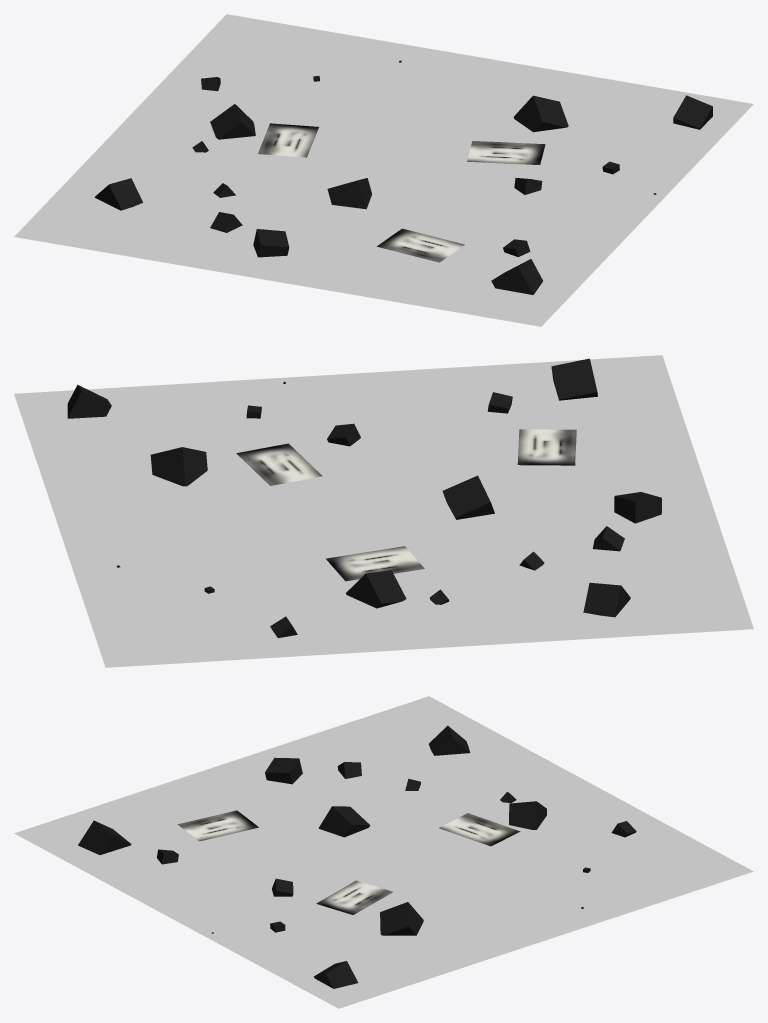
File: Trash3.fbx
3 renders of one model, top to bottom at view 1: azimuth 30°, elevation 25°; view 2: azimuth 150°, elevation 25°; view 3: azimuth 270°, elevation 25°, orthographic. The views are drawn at different scales.
Visible parts, largest first — view 1: Trash3, Trash3.1, Trash3|TrashP|Dupli|7, Trash3|TrashP|Dupli|10, Trash3|TrashP|Dupli|8, Trash3|TrashP|Dupli|4, Trash3|TrashP|Dupli|17, Trash3|TrashP|Dupli|3, Trash3|TrashP|Dupli|6; view 2: Trash3, Trash3.1, Trash3|TrashP|Dupli|7, Trash3|TrashP|Dupli|10, Trash3|TrashP|Dupli|8, Trash3|TrashP|Dupli|4, Trash3|TrashP|Dupli|17, Trash3|TrashP|Dupli|6, Trash3|TrashP|Dupli|3, Trash3|TrashP|Dupli|16, Trash3|TrashP|Dupli|1; view 3: Trash3, Trash3.1, Trash3|TrashP|Dupli|7, Trash3|TrashP|Dupli|4, Trash3|TrashP|Dupli|10, Trash3|TrashP|Dupli|8, Trash3|TrashP|Dupli|17, Trash3|TrashP|Dupli|6, Trash3|TrashP|Dupli|3.
Boxes of the visible parts, x1,y1,x2,y2 form: Trash3: [14, 14, 753, 326]; Trash3.1: [258, 123, 545, 262]; Trash3|TrashP|Dupli|7: [513, 95, 568, 132]; Trash3|TrashP|Dupli|10: [491, 259, 542, 294]; Trash3|TrashP|Dupli|8: [210, 104, 255, 139]; Trash3|TrashP|Dupli|4: [327, 178, 371, 209]; Trash3|TrashP|Dupli|17: [95, 178, 142, 210]; Trash3|TrashP|Dupli|3: [673, 95, 712, 129]; Trash3|TrashP|Dupli|6: [253, 229, 289, 257]; Trash3: [14, 355, 753, 667]; Trash3.1: [236, 429, 576, 581]; Trash3|TrashP|Dupli|7: [150, 447, 207, 486]; Trash3|TrashP|Dupli|10: [551, 358, 597, 400]; Trash3|TrashP|Dupli|8: [346, 570, 406, 608]; Trash3|TrashP|Dupli|4: [442, 475, 494, 519]; Trash3|TrashP|Dupli|17: [583, 582, 630, 617]; Trash3|TrashP|Dupli|6: [614, 492, 661, 523]; Trash3|TrashP|Dupli|3: [67, 384, 111, 418]; Trash3|TrashP|Dupli|16: [327, 423, 360, 446]; Trash3|TrashP|Dupli|1: [592, 526, 624, 551]; Trash3: [14, 696, 753, 1008]; Trash3.1: [177, 810, 520, 914]; Trash3|TrashP|Dupli|7: [380, 902, 423, 935]; Trash3|TrashP|Dupli|4: [318, 806, 370, 837]; Trash3|TrashP|Dupli|10: [78, 820, 131, 854]; Trash3|TrashP|Dupli|8: [509, 801, 546, 829]; Trash3|TrashP|Dupli|17: [429, 725, 470, 755]; Trash3|TrashP|Dupli|6: [265, 757, 302, 784]; Trash3|TrashP|Dupli|3: [313, 961, 358, 988].
Size of the model in its own units: 291 by 291 by 20.88.
